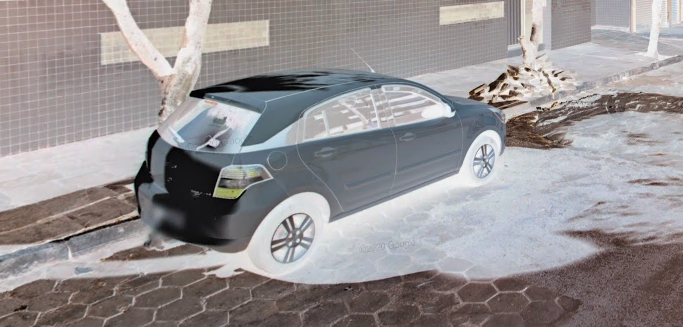car: (129, 46, 510, 281)
